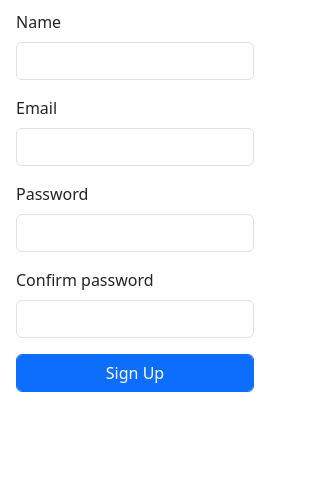
Test: SignupPageComponent › when user interact with name field › should display error message when field do not contain only letters
In the field with test id "name": [135, 61] box [16,42,254,80], type "!"
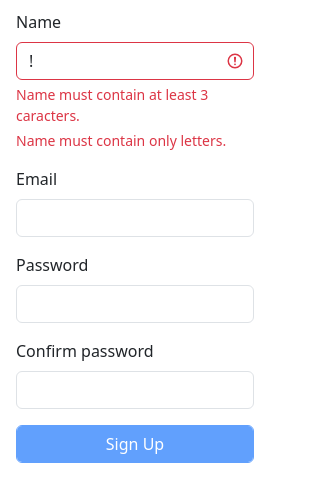
Check: the text with test id "error-name-pattern" reads "Name must contain only letters.", box [16,131,226,150]
